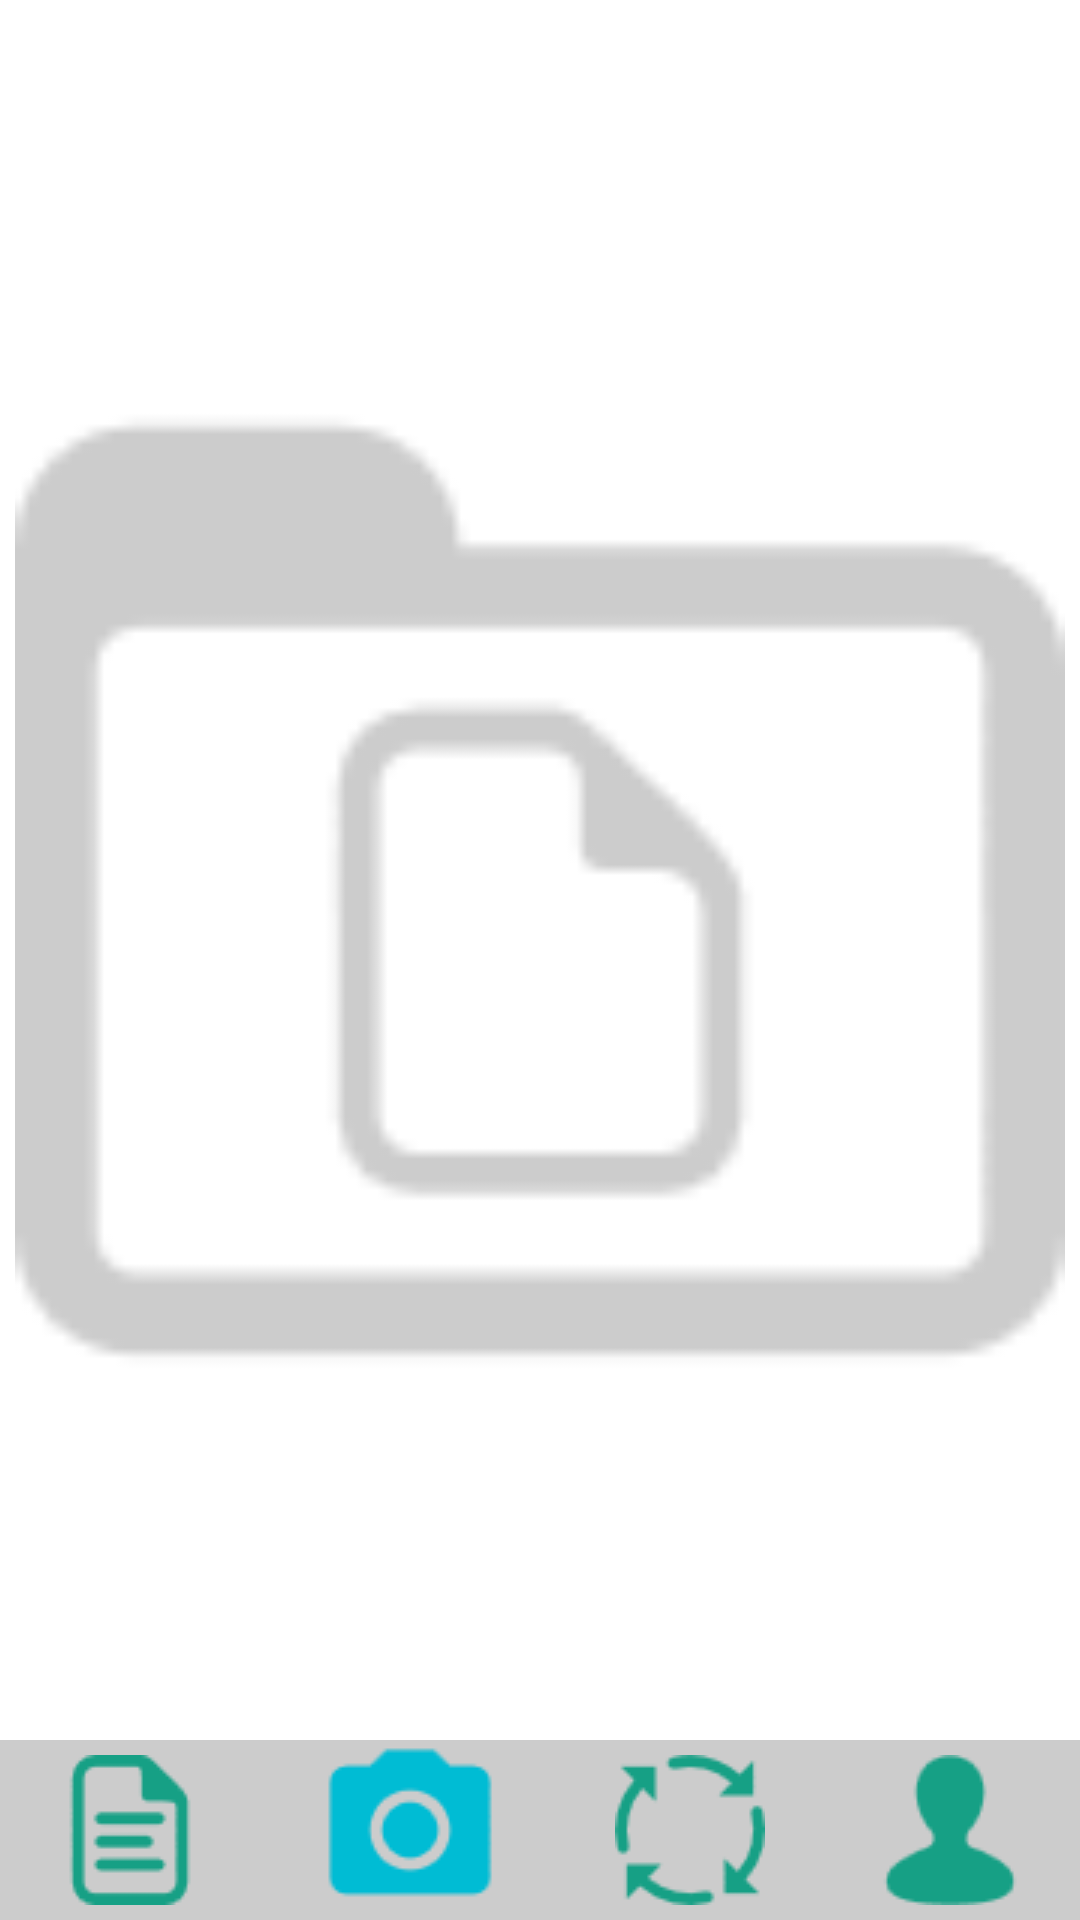

Screen size 1080px x 1920px. Icon name, then its center in pixels as [x,y]:
camera: [410,1822]
documents: [130,1830]
process: [690,1830]
user: [950,1830]
